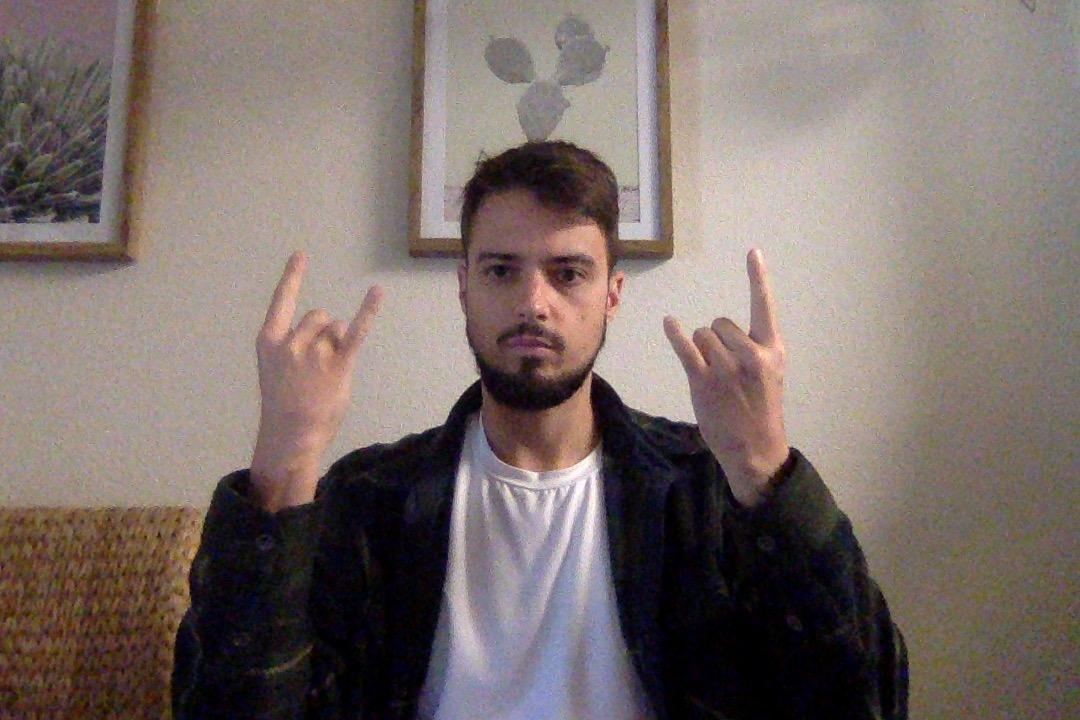Rock: (657, 243, 805, 489), (240, 240, 390, 482)
